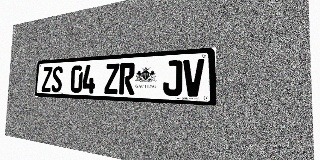0: (70, 65, 83, 93)
4: (82, 64, 96, 93)
J: (163, 60, 182, 96)
R: (119, 62, 135, 95)
S: (51, 66, 63, 92)
V: (183, 59, 204, 97)
Z: (104, 63, 119, 94), (41, 67, 52, 92)
